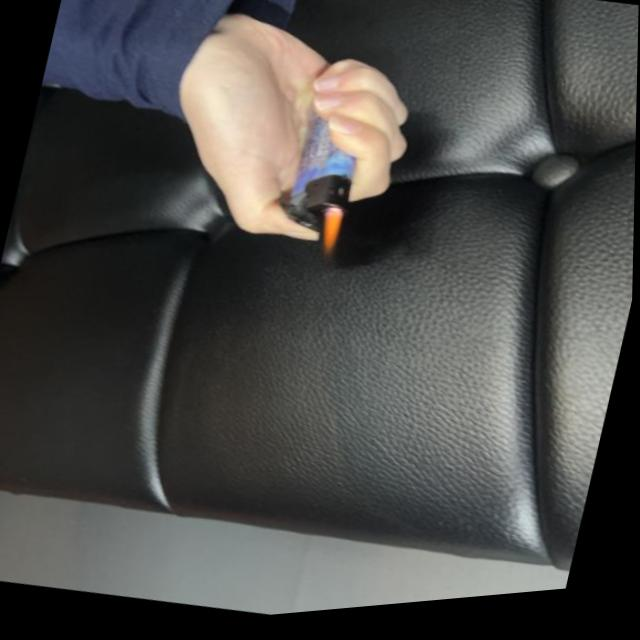Fire: (313, 209, 346, 266)
